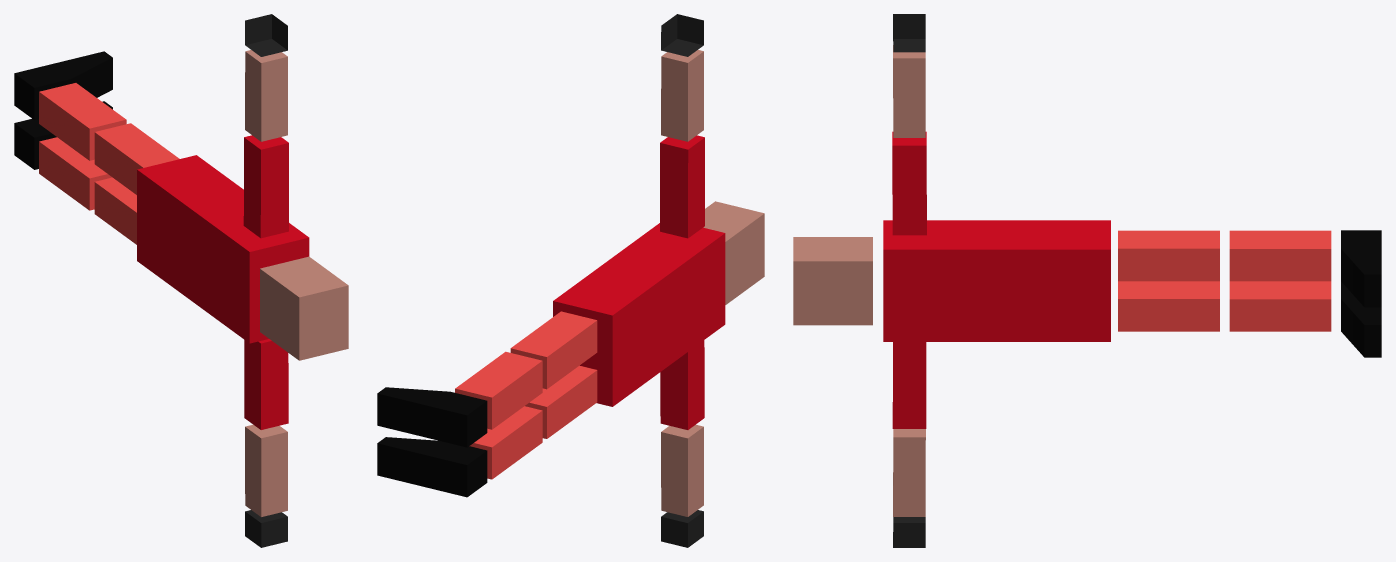
File: враг1 модель.fbx
3 views of the same model, side by side, from view 1: azimuth 30°, elevation 25°; view 2: azimuth 150°, elevation 25°; view 3: azimuth 270°, elevation 25° (orthographic).
Parts seen in each view (by area): view 1: Cube.007; view 2: Cube.007; view 3: Cube.007.
Part boxes in pixels (bbox=[...]): Cube.007: bbox=[14, 14, 348, 547]; Cube.007: bbox=[377, 14, 764, 547]; Cube.007: bbox=[793, 14, 1381, 547].
Bounding box in the file's own units: 200 × 974 × 997.
